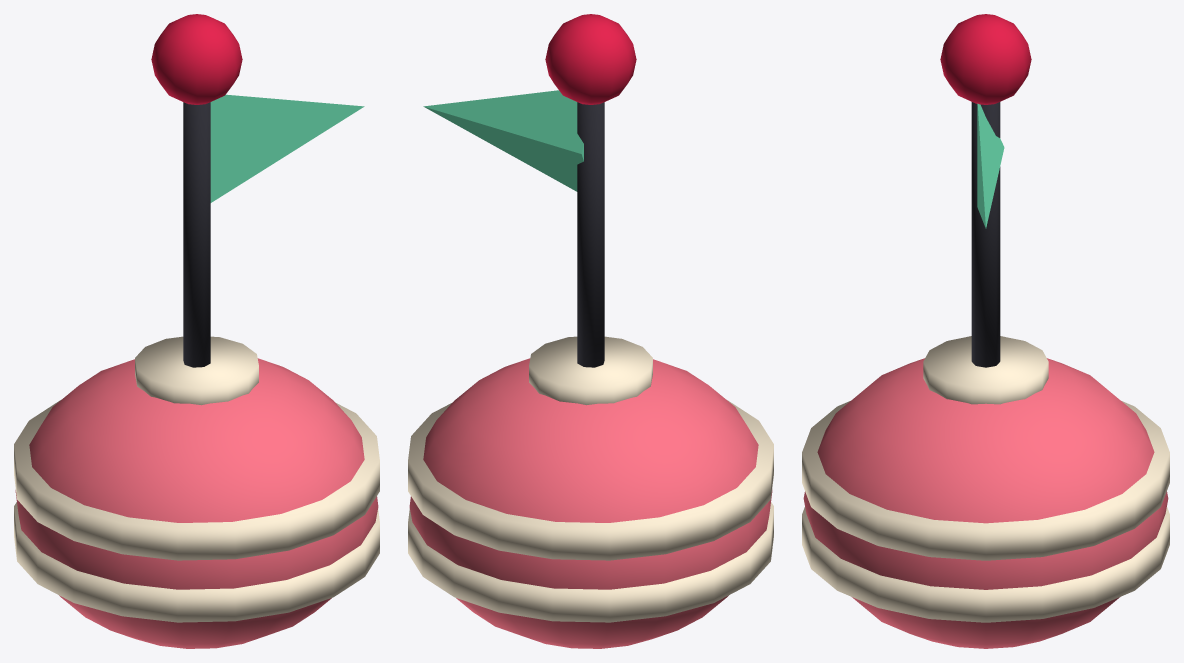
File: slalom-buoy.glb
3 renders of one model, left to right at view 1: azimuth 30°, elevation 25°; view 2: azimuth 150°, elevation 25°; view 3: azimuth 270°, elevation 25°, orthographic.
Parts seen in each view (by area): view 1: slalom-buoy; view 2: slalom-buoy; view 3: slalom-buoy.
Part boxes in pixels (<box>): slalom-buoy: <box>14,14,379,648</box>; slalom-buoy: <box>408,14,773,648</box>; slalom-buoy: <box>802,14,1169,648</box>.
Size of the model in its own units: 0.6626 by 1.18 by 0.6453.
1 material, 1 textured.
